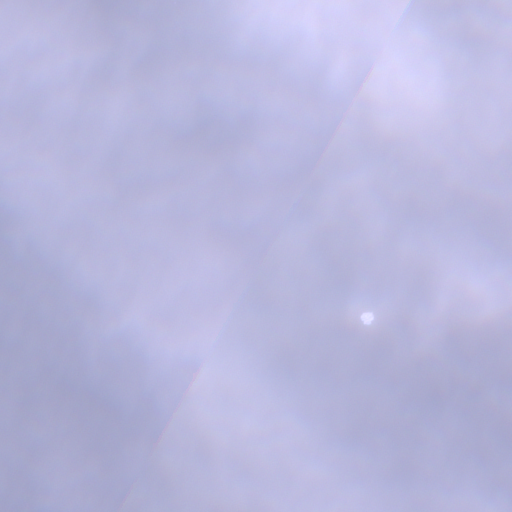Iceberg: (360, 313, 373, 323)
